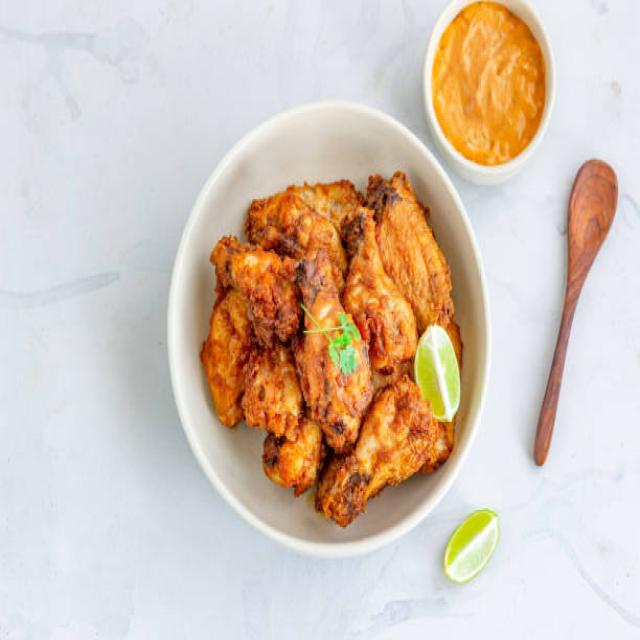Frango: (201, 172, 464, 526)
